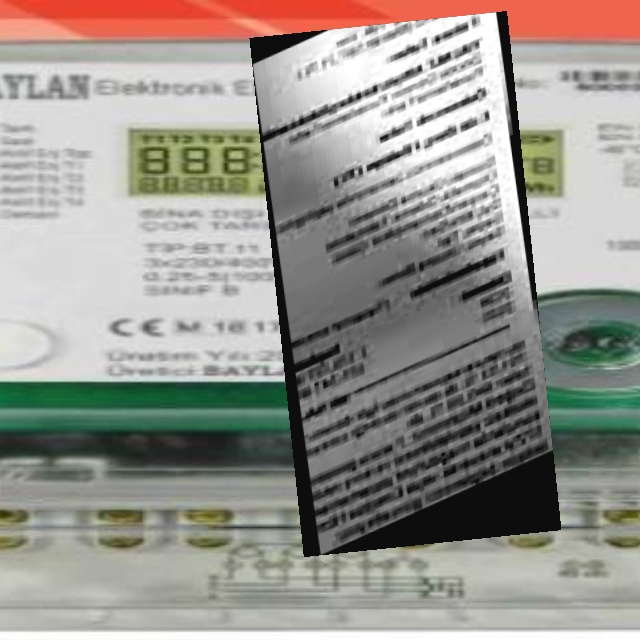electricity-bill: (248, 11, 560, 557)
